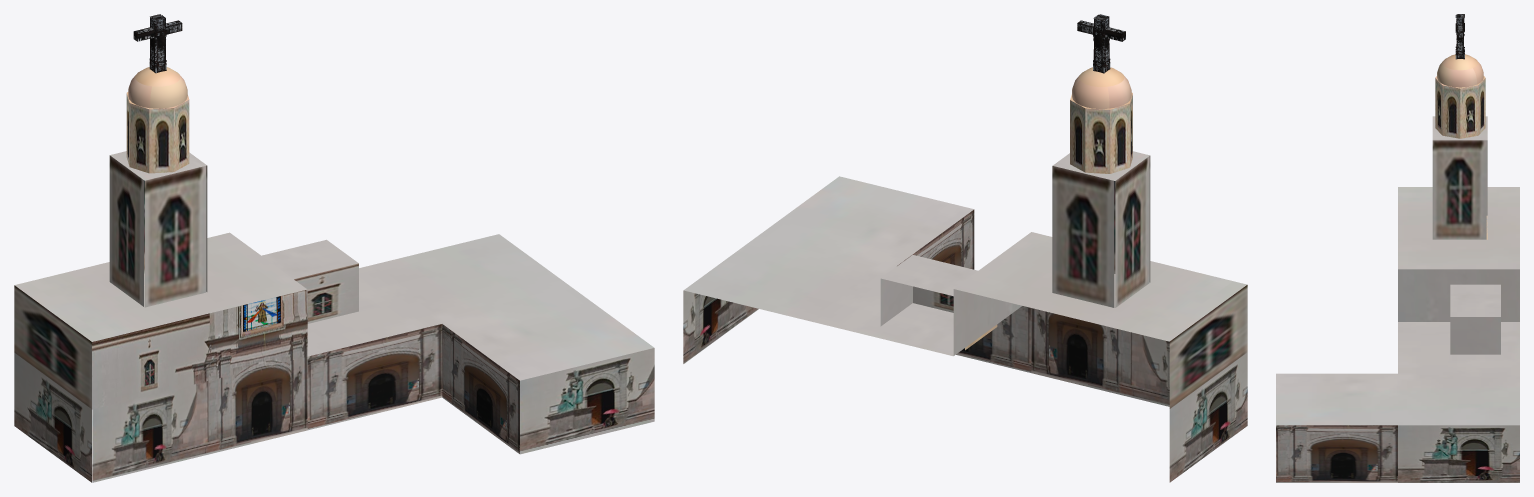
Rendered from iglecia.obj.
3 renders of one model, left to right at view 1: azimuth 30°, elevation 25°; view 2: azimuth 150°, elevation 25°; view 3: azimuth 270°, elevation 25°, orthographic. The views are drawn at different scales.
Visible parts, largest first — view 1: iglrcia1; view 2: iglrcia1; view 3: iglrcia1.
Part boxes in pixels (x1,y1,x2,y2): iglrcia1: (14,14,654,482); iglrcia1: (683,14,1247,482); iglrcia1: (1276,14,1519,482).
Bounding box in the file's own units: 144 × 117 × 80.
